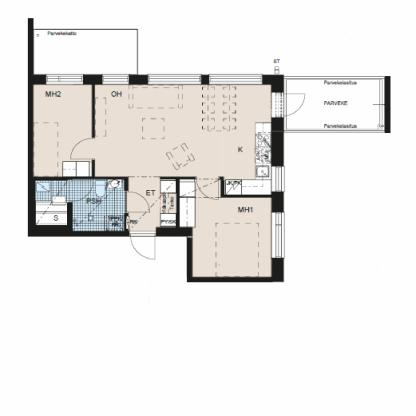door: (127, 228, 160, 263), (67, 138, 96, 162), (123, 188, 149, 214), (277, 94, 305, 116), (198, 176, 223, 198)
window: (271, 210, 287, 258), (208, 74, 262, 88), (144, 73, 200, 85), (272, 166, 286, 192), (46, 74, 82, 84), (101, 74, 129, 85)
zone: (95, 82, 265, 179), (182, 178, 272, 278), (32, 83, 92, 173), (284, 79, 387, 127), (36, 179, 126, 231), (34, 29, 136, 72), (126, 179, 174, 235)
